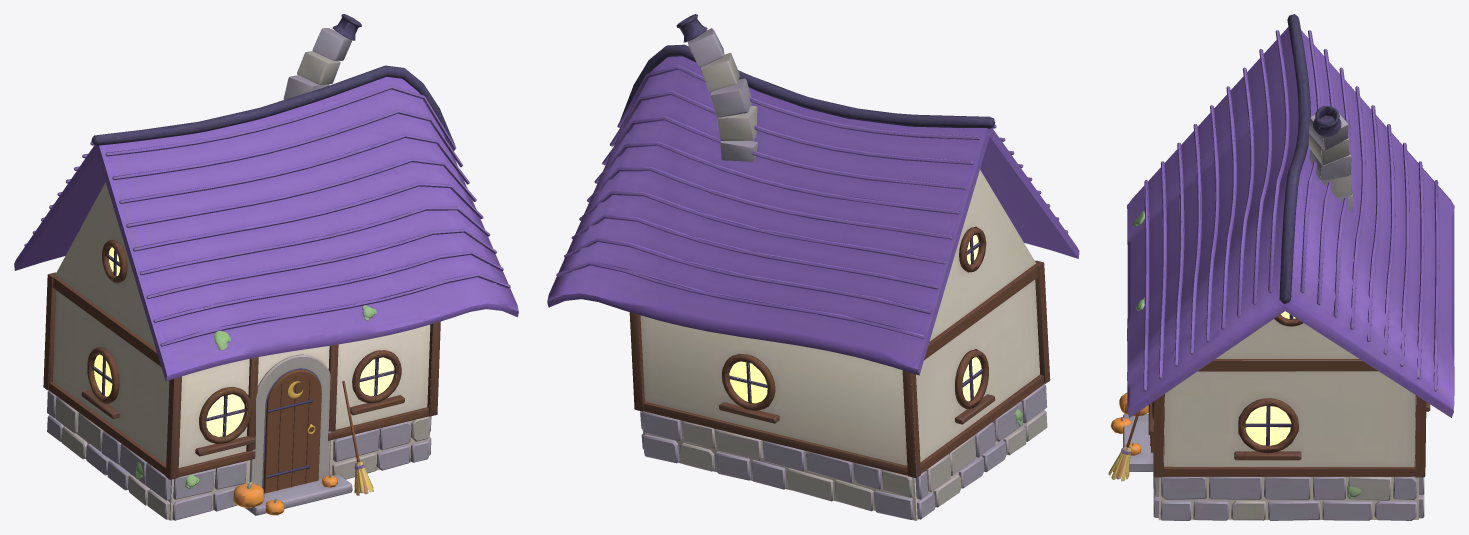
3 views of the same model, side by side, from view 1: azimuth 30°, elevation 25°; view 2: azimuth 150°, elevation 25°; view 3: azimuth 270°, elevation 25° (orthographic). The views are drawn at different scales.
Visible parts, largest first — view 1: witch-cottage_body, witch-cottage_door, witch-cottage_window_glow; view 2: witch-cottage_body, witch-cottage_window_glow; view 3: witch-cottage_body, witch-cottage_window_glow.
Part boxes in pixels (x1,y1,x2,y2): witch-cottage_body: (14,14,518,520); witch-cottage_door: (263,370,321,493); witch-cottage_window_glow: (94,247,394,436); witch-cottage_body: (547,14,1079,520); witch-cottage_window_glow: (729,235,981,403); witch-cottage_body: (1108,14,1454,520); witch-cottage_window_glow: (1244,311,1295,445).
Bounding box in the file's own units: 6.15 × 6.26 × 4.77.
3 materials, 2 textured.
